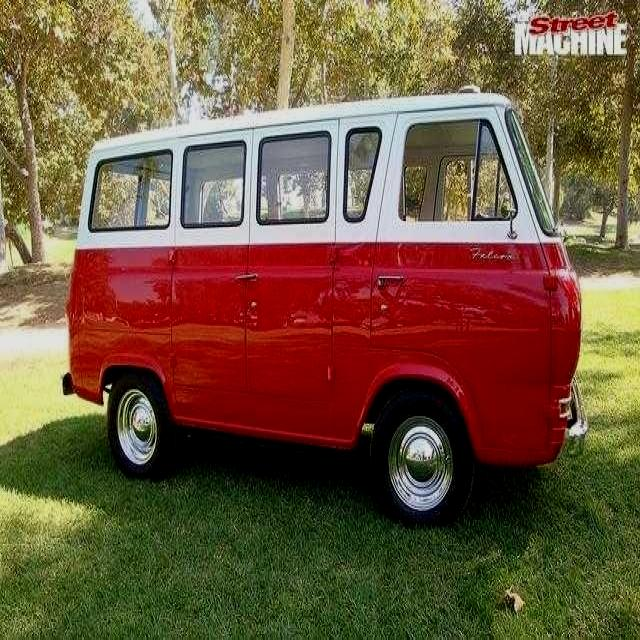Van: (51, 61, 600, 545)
